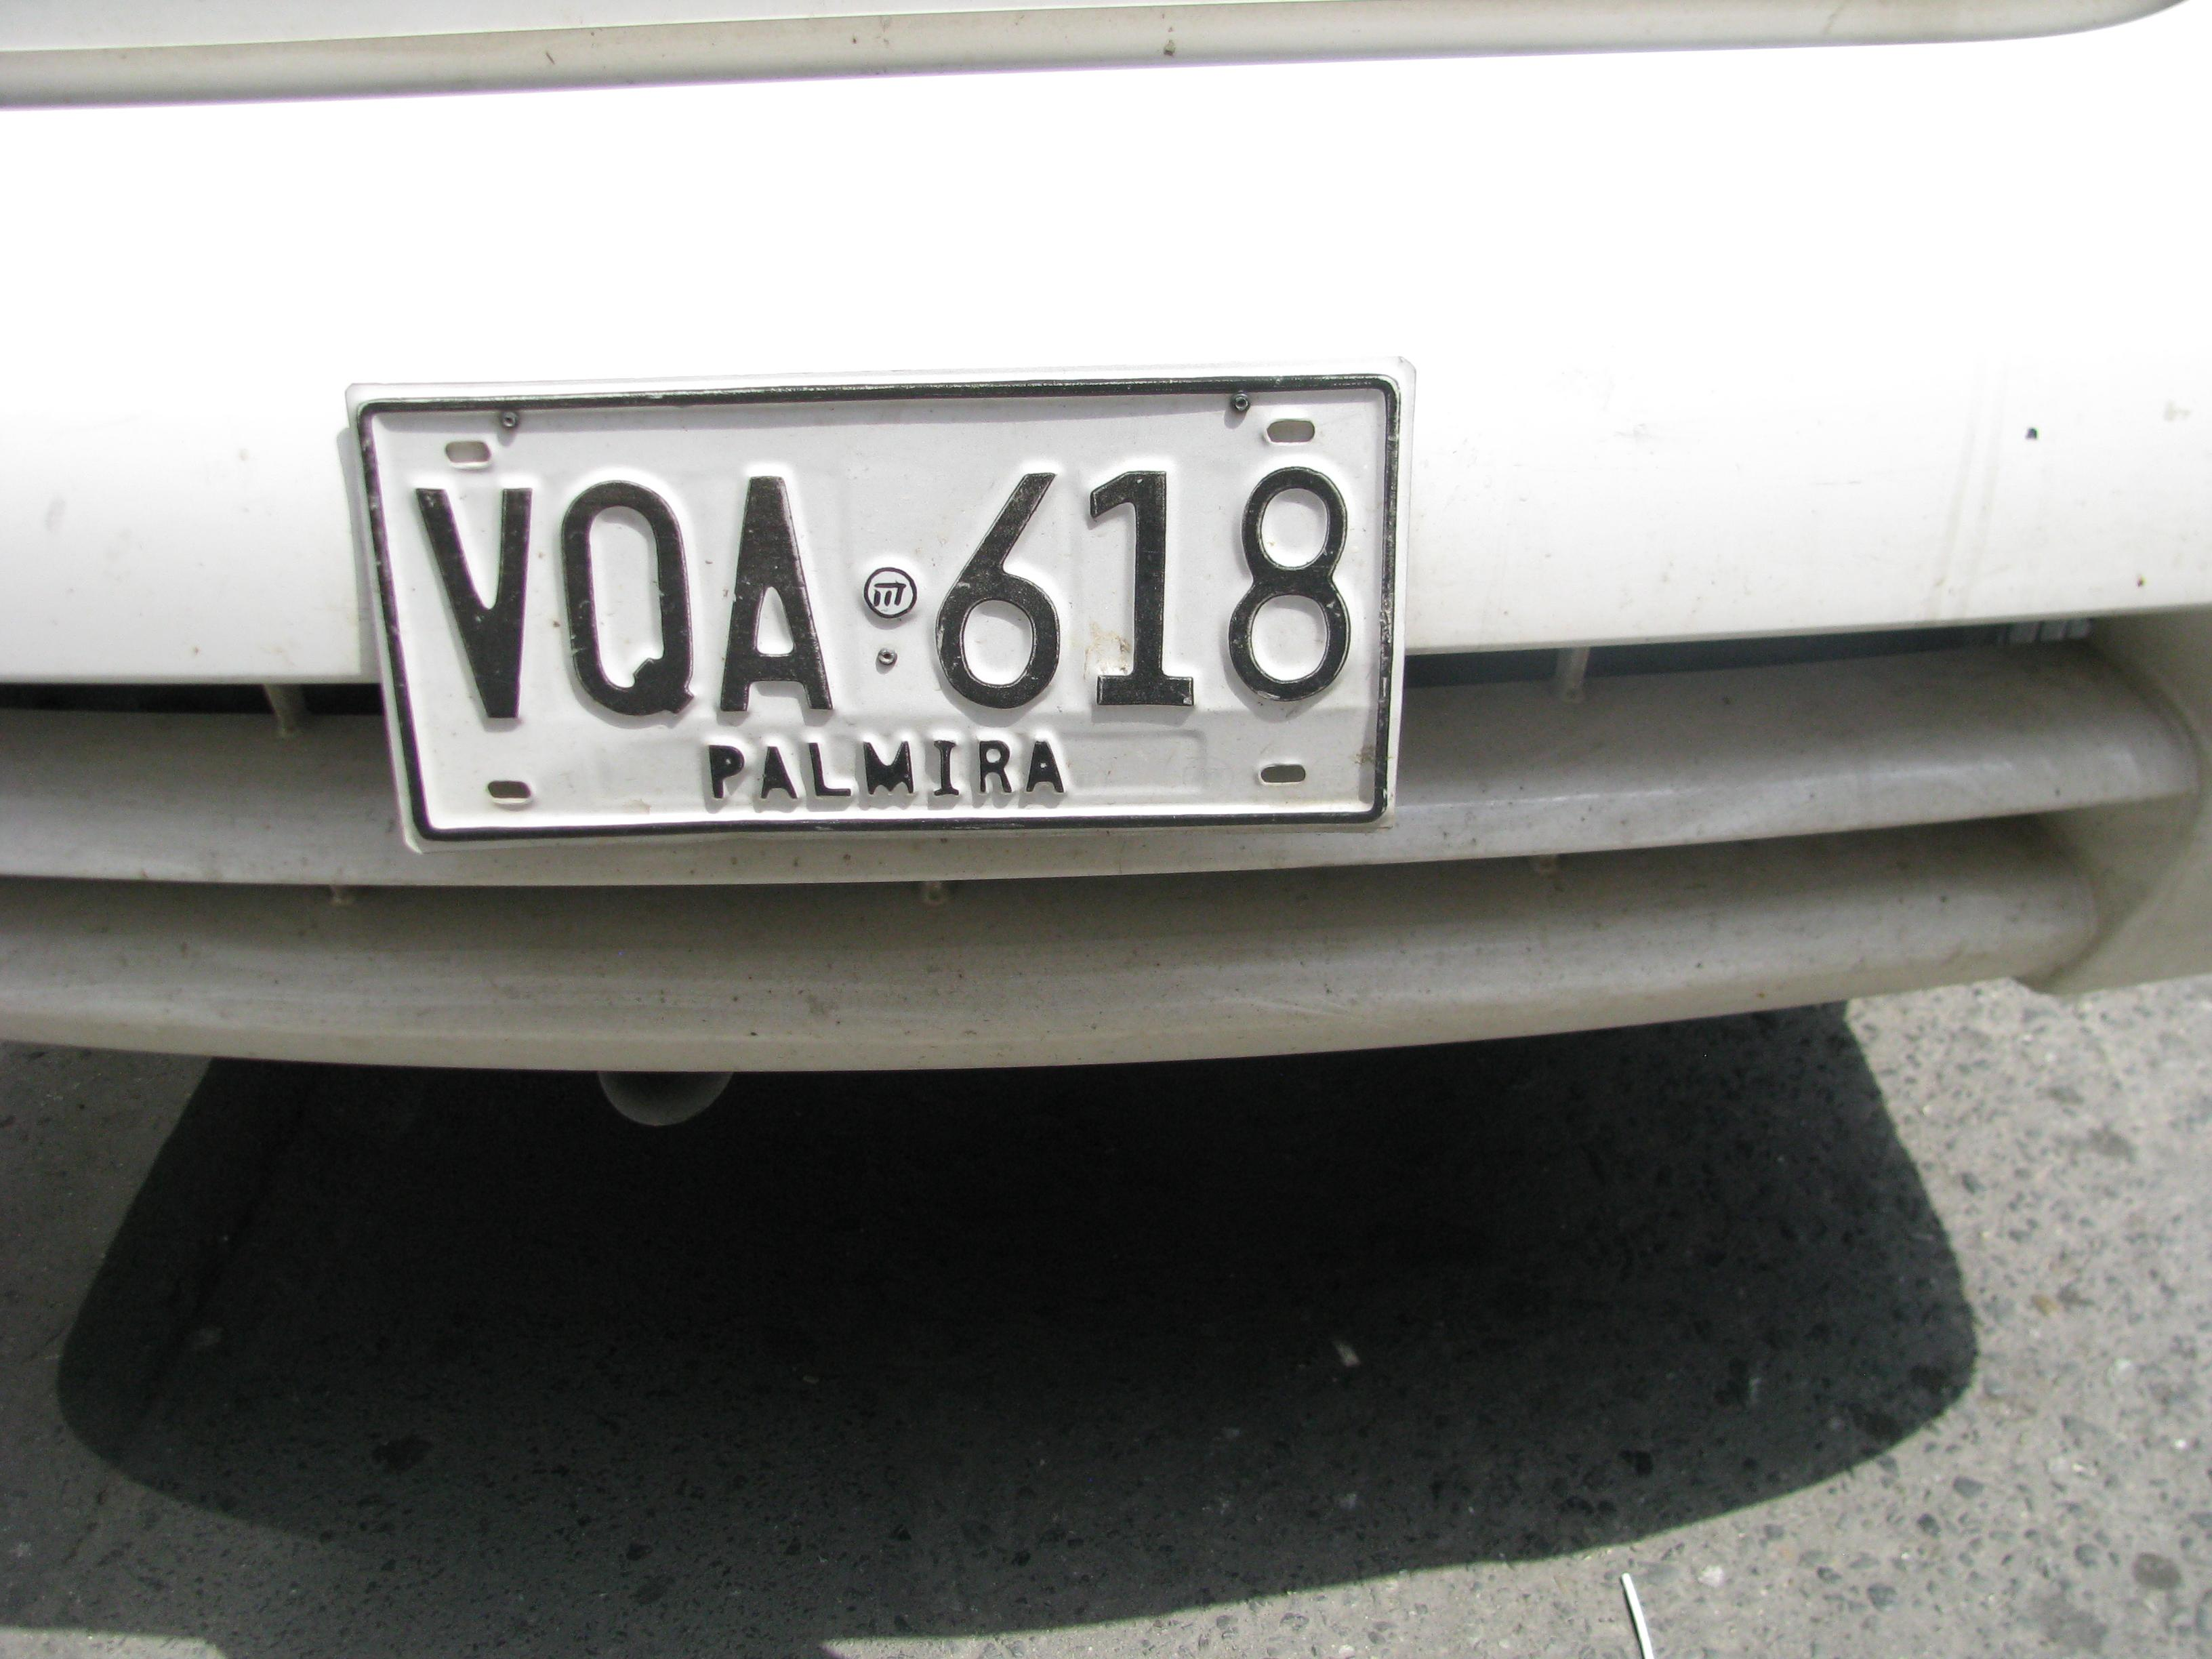placas: (337, 365, 1432, 859)
